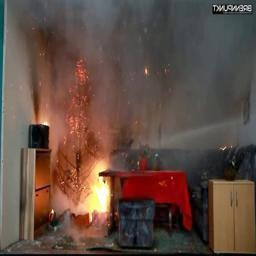fire: (75, 153, 122, 215)
